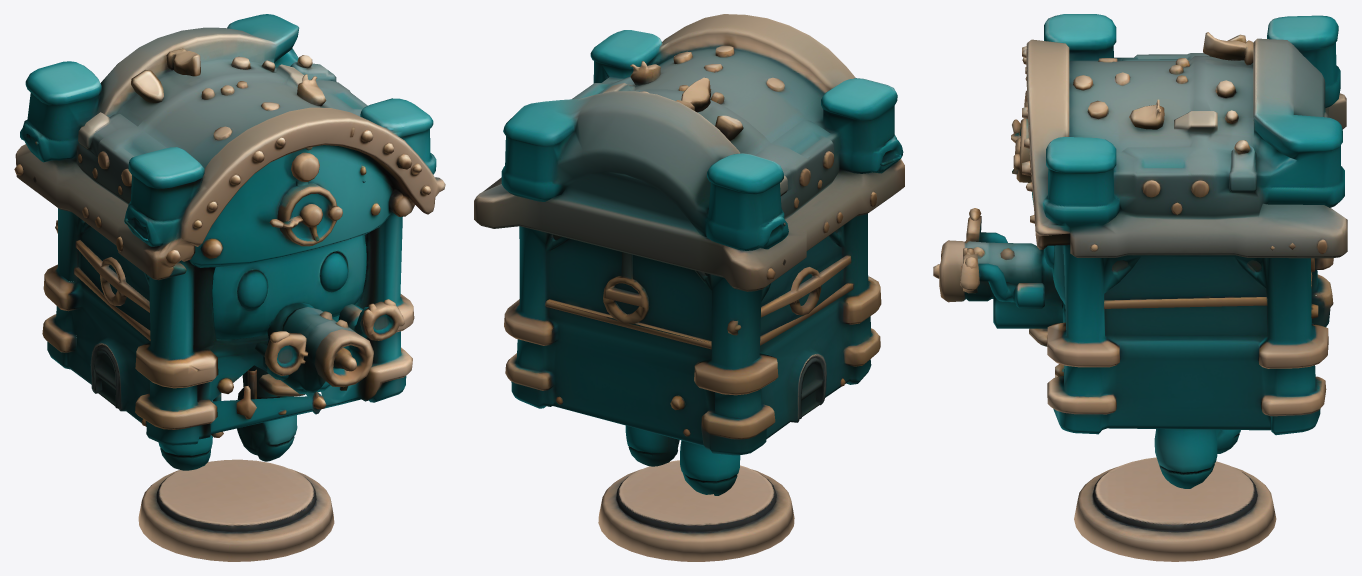
The model's file is cambodia-rook.glb.
The picture shows the model from 3 angles, left to right: view 1: azimuth 30°, elevation 25°; view 2: azimuth 150°, elevation 25°; view 3: azimuth 270°, elevation 25°; orthographic projection. The views are drawn at different scales.
Parts seen in each view (by area): view 1: tripo_7d2195e8_468f_4ddc_b9e4_1c2410f395e3; view 2: tripo_7d2195e8_468f_4ddc_b9e4_1c2410f395e3; view 3: tripo_7d2195e8_468f_4ddc_b9e4_1c2410f395e3.
Boxes of the visible parts, x1=… form: tripo_7d2195e8_468f_4ddc_b9e4_1c2410f395e3: x1=14, y1=14, x2=445, y2=561; tripo_7d2195e8_468f_4ddc_b9e4_1c2410f395e3: x1=474, y1=14, x2=904, y2=561; tripo_7d2195e8_468f_4ddc_b9e4_1c2410f395e3: x1=933, y1=14, x2=1347, y2=561.
Size of the model in its own units: 0.6743 by 0.9995 by 0.7925.
1 material, 1 textured.
